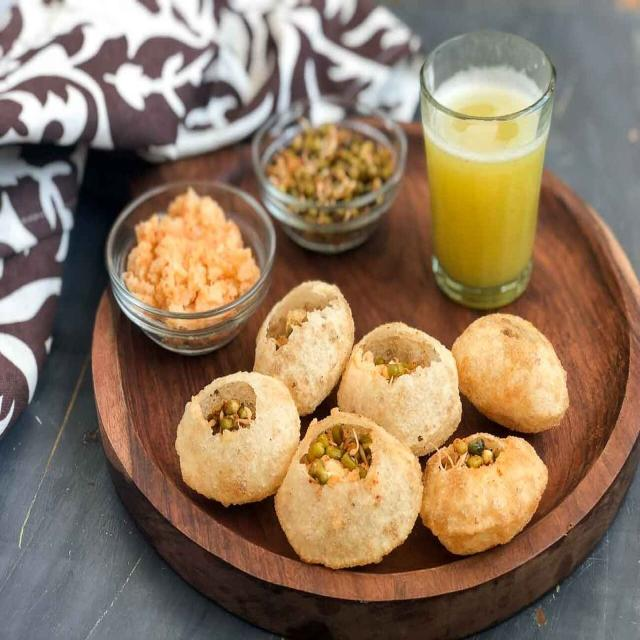paani_puri: (268, 294, 558, 524)
